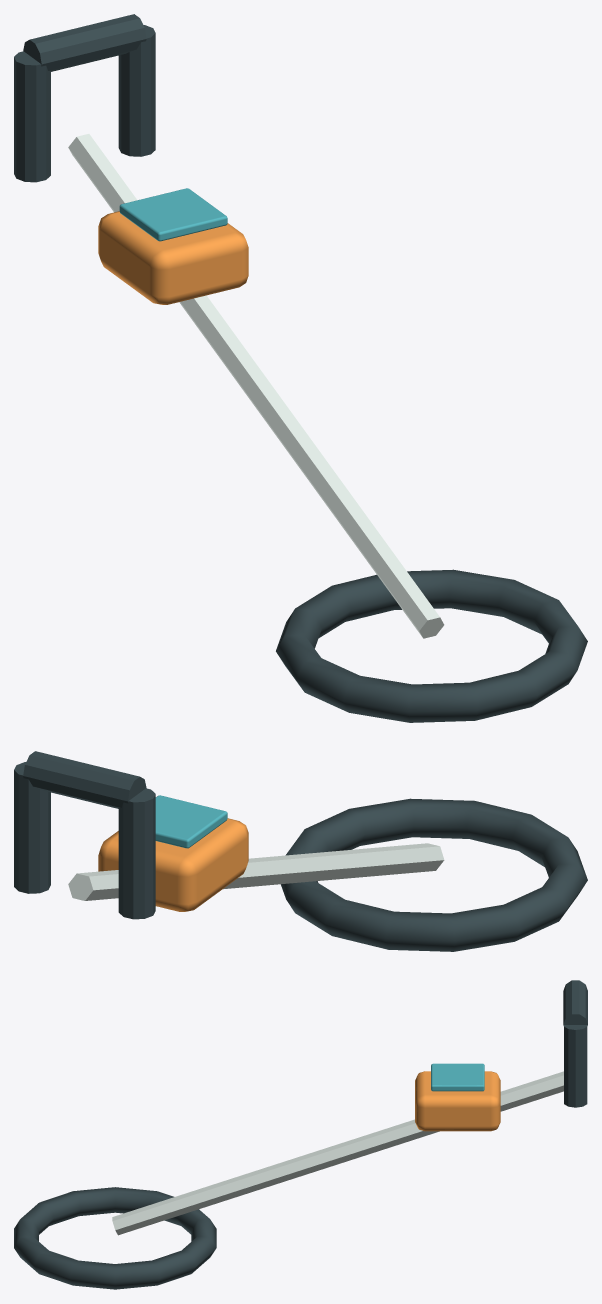
File: diving-and-underwater-salvage-underwater-metal-detecto-1349fd27__28453.glb
3 views of the same model, one above another, from view 1: azimuth 30°, elevation 25°; view 2: azimuth 150°, elevation 25°; view 3: azimuth 270°, elevation 25° (orthographic). The views are drawn at different scales.
Visible parts, largest first — view 1: underwater-metal-detector-dark, underwater-metal-detector-pale, underwater-metal-detector-orange, underwater-metal-detector-glass; view 2: underwater-metal-detector-dark, underwater-metal-detector-pale, underwater-metal-detector-orange, underwater-metal-detector-glass; view 3: underwater-metal-detector-dark, underwater-metal-detector-pale, underwater-metal-detector-orange, underwater-metal-detector-glass.
Boxes of the visible parts, bbox=[...] form: underwater-metal-detector-dark: bbox=[14, 14, 587, 722]; underwater-metal-detector-pale: bbox=[68, 134, 444, 638]; underwater-metal-detector-orange: bbox=[98, 211, 248, 304]; underwater-metal-detector-glass: bbox=[119, 188, 227, 241]; underwater-metal-detector-dark: bbox=[14, 751, 587, 951]; underwater-metal-detector-pale: bbox=[68, 843, 444, 900]; underwater-metal-detector-orange: bbox=[98, 818, 248, 911]; underwater-metal-detector-glass: bbox=[155, 795, 227, 848]; underwater-metal-detector-dark: bbox=[14, 980, 587, 1289]; underwater-metal-detector-pale: bbox=[112, 1071, 563, 1235]; underwater-metal-detector-orange: bbox=[415, 1071, 500, 1131]; underwater-metal-detector-glass: bbox=[431, 1063, 484, 1091].
Bounding box in the file's own units: 0.388 × 0.5177 × 1.07.
